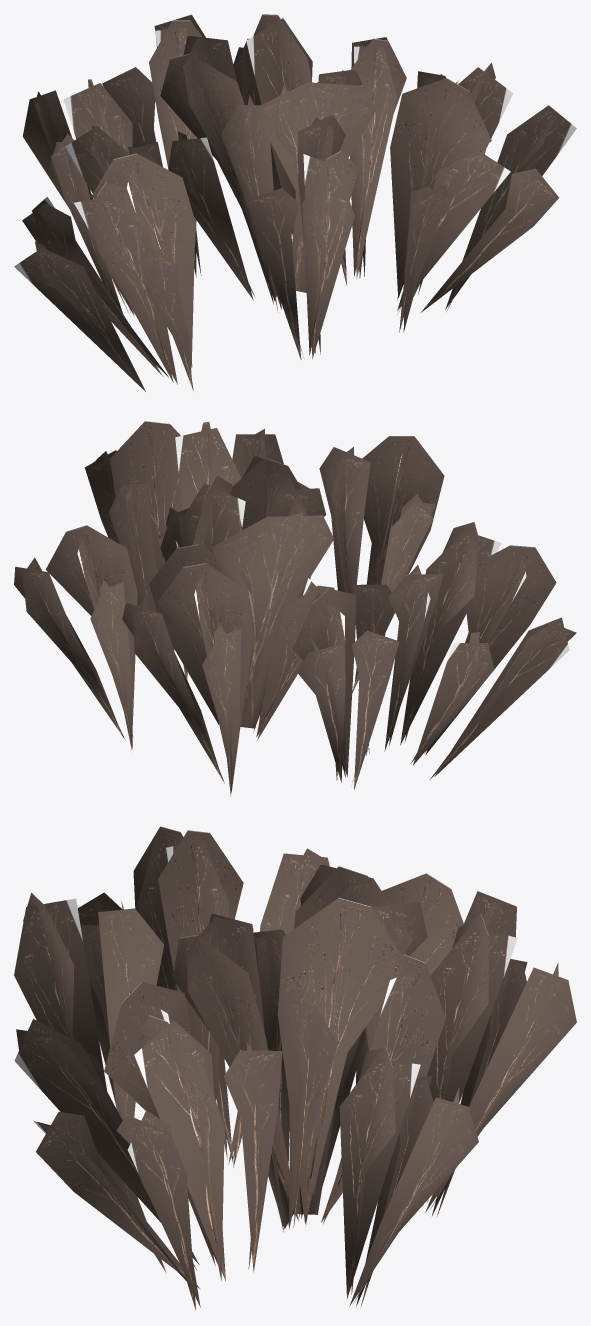
The model's file is Grass_patch_4.fbx.
3 views of the same model, one above another, from view 1: azimuth 30°, elevation 25°; view 2: azimuth 150°, elevation 25°; view 3: azimuth 270°, elevation 25° (orthographic). The views are drawn at different scales.
Visible parts, largest first — view 1: Grass_Patch_3; view 2: Grass_Patch_3; view 3: Grass_Patch_3.
Boxes of the visible parts, left/top/right/bottom form: Grass_Patch_3: left=14, top=14, right=576, bottom=391; Grass_Patch_3: left=14, top=421, right=576, bottom=796; Grass_Patch_3: left=14, top=826, right=576, bottom=1310.
Size of the model in its own units: 2.11 by 1.17 by 1.6.
